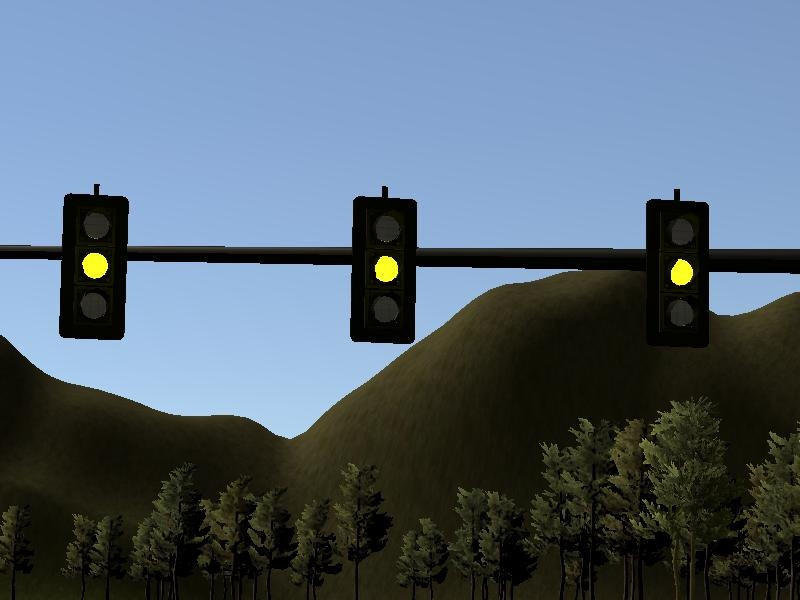yellow: (344, 179, 430, 349), (633, 182, 717, 353), (52, 175, 134, 350)
